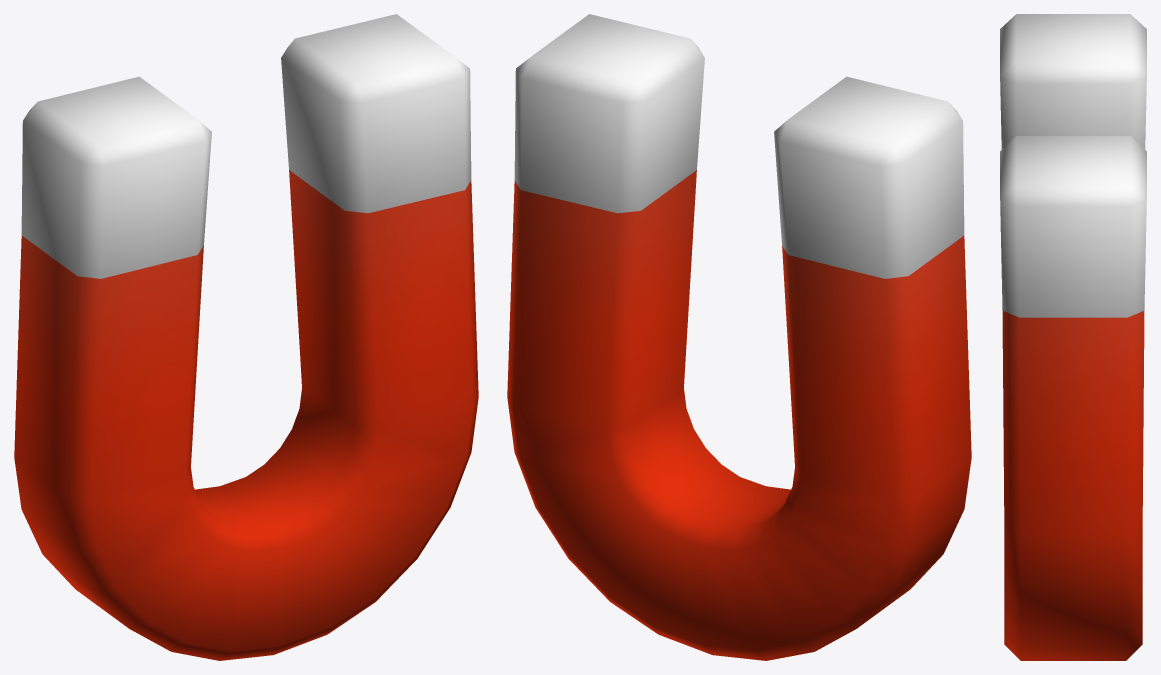
The model's file is Collectible_Magnet_01.fbx.
The picture shows the model from 3 angles, left to right: view 1: azimuth 30°, elevation 25°; view 2: azimuth 150°, elevation 25°; view 3: azimuth 270°, elevation 25°; orthographic projection. The views are drawn at different scales.
Visible parts, largest first — view 1: Collectible_Magnet_01; view 2: Collectible_Magnet_01; view 3: Collectible_Magnet_01.
Boxes of the visible parts, left/top/right/bottom form: Collectible_Magnet_01: left=14, top=14, right=478, bottom=660; Collectible_Magnet_01: left=507, top=14, right=971, bottom=660; Collectible_Magnet_01: left=1000, top=14, right=1146, bottom=660.
Bounding box in the file's own units: 55.61 × 72.02 × 17.73.
